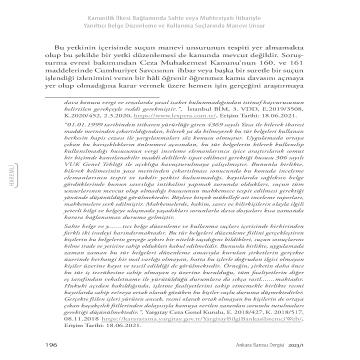footer: (62, 323, 306, 350)
header: (81, 16, 270, 32)
